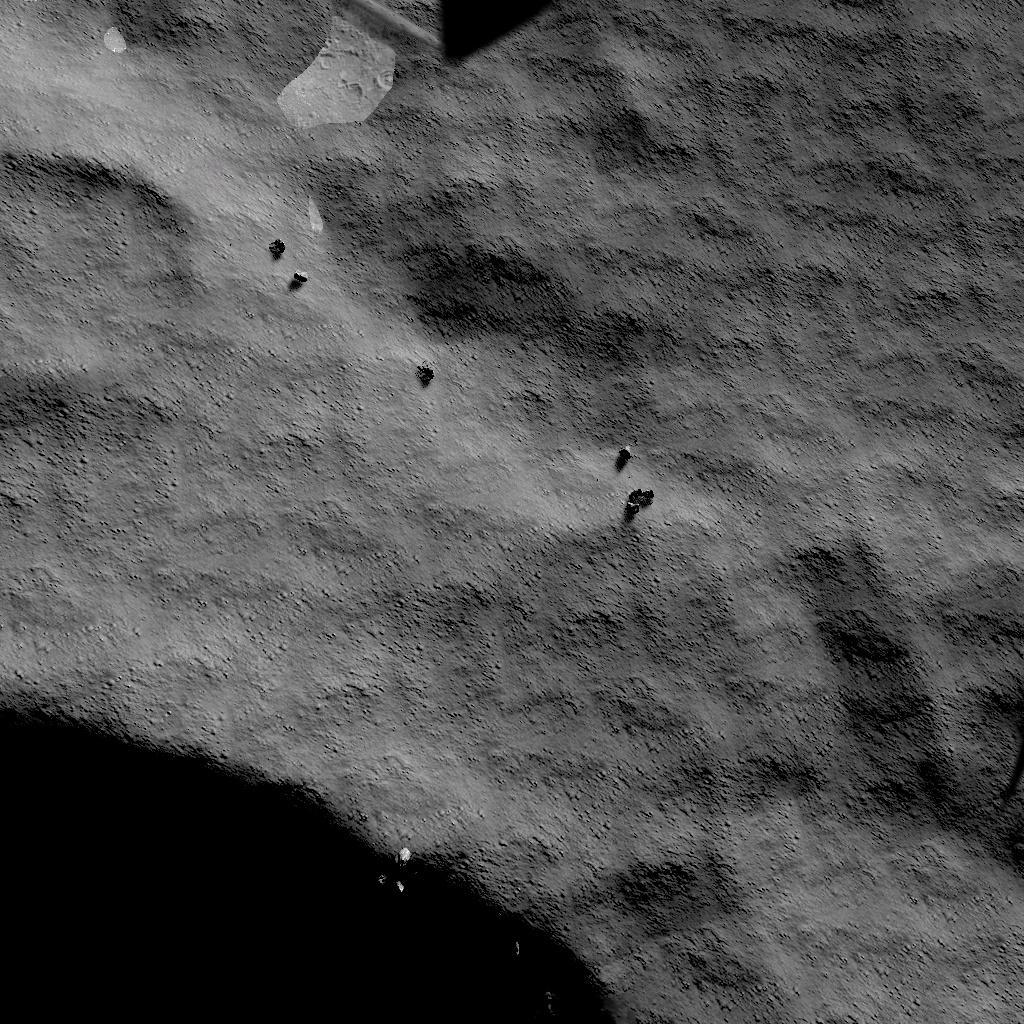Boulders: (271, 26, 405, 156)
Crater: (0, 680, 624, 1024), (0, 140, 192, 436)
Plan surface: (671, 454, 1024, 1024), (591, 0, 1024, 438), (0, 446, 589, 666)
